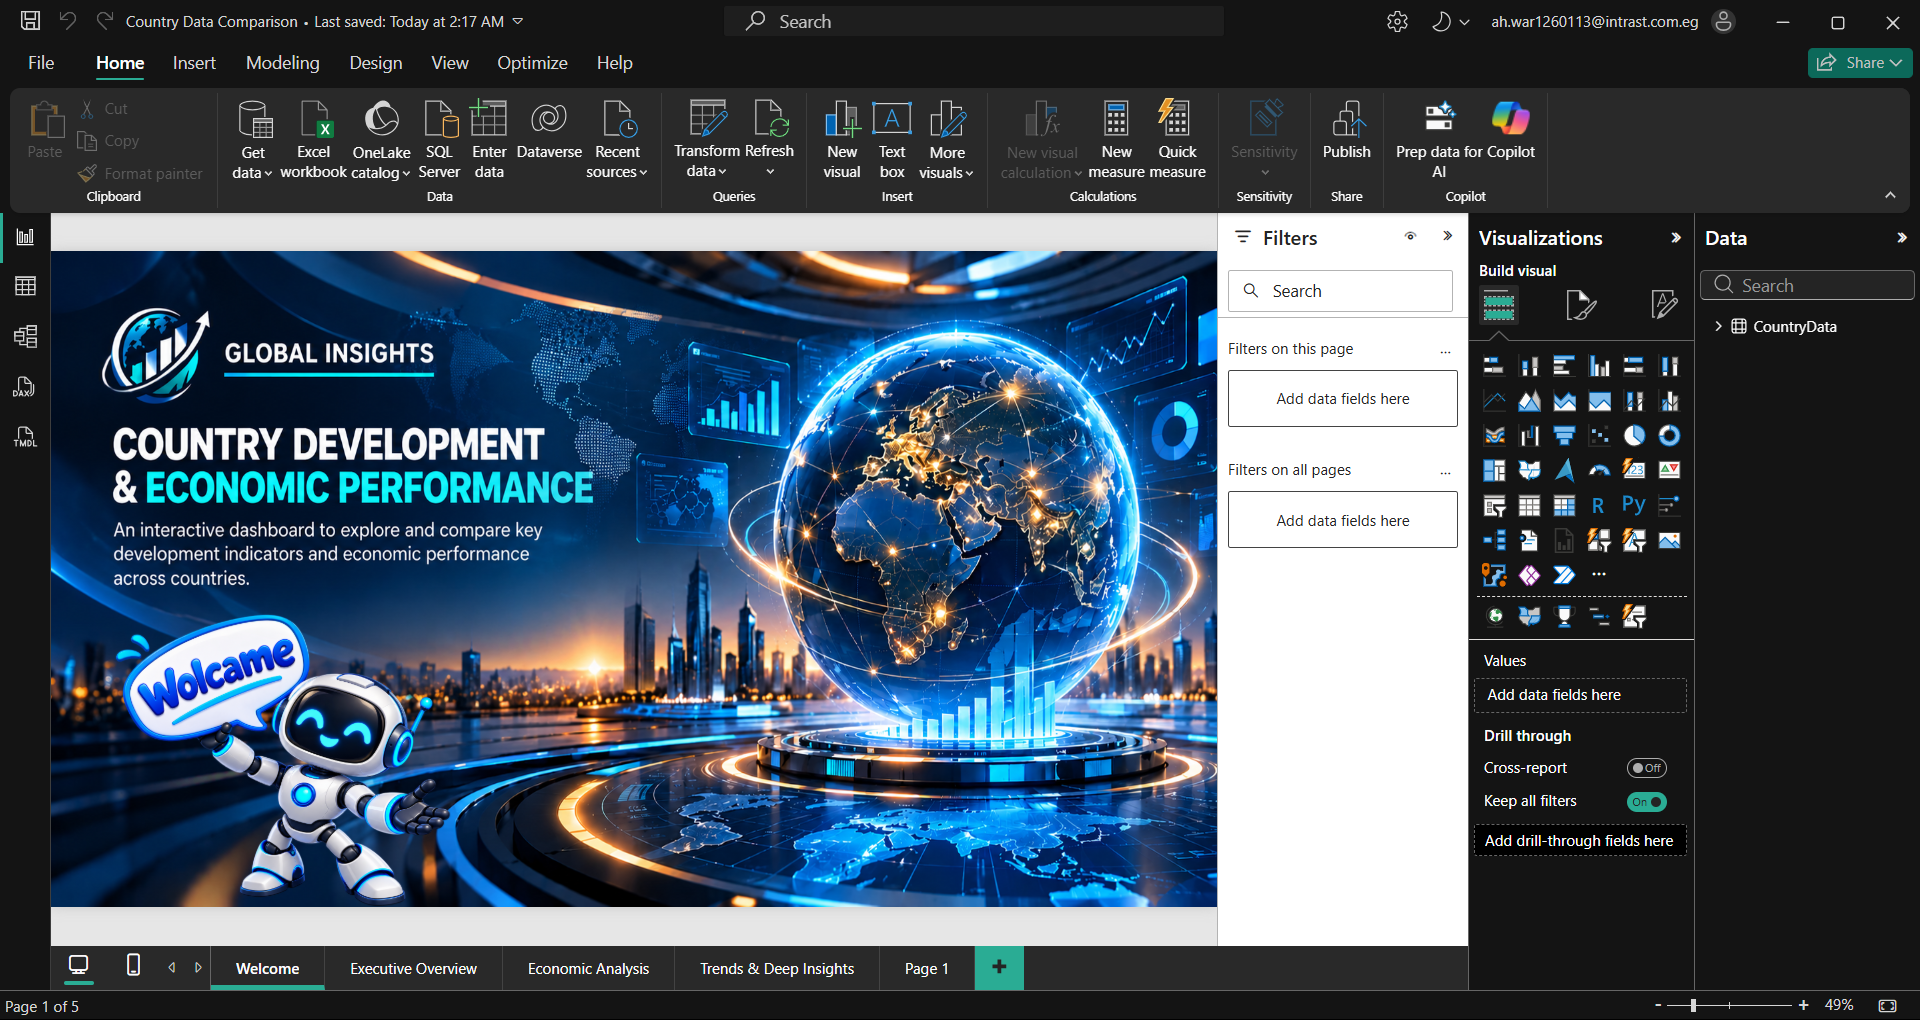

The dashboard page shown, as its layout file describes it:
{"tool":"powerbi","page":{"name":"Welcome","canvas":[1920,1080],"ordinal":0},"visuals":[{"type":"image","box":[0,590.4,745.8,488.9],"z":1}]}

Visuals, with their boxes on the page's 1920x1080 design canvas (x1, y1, x2, y2). These are canvas units, not pixel positions in the 1920x1020 screenshot, which may show the page scaled, cropped or inside an application window:
image: box=[0, 590, 746, 1079]
